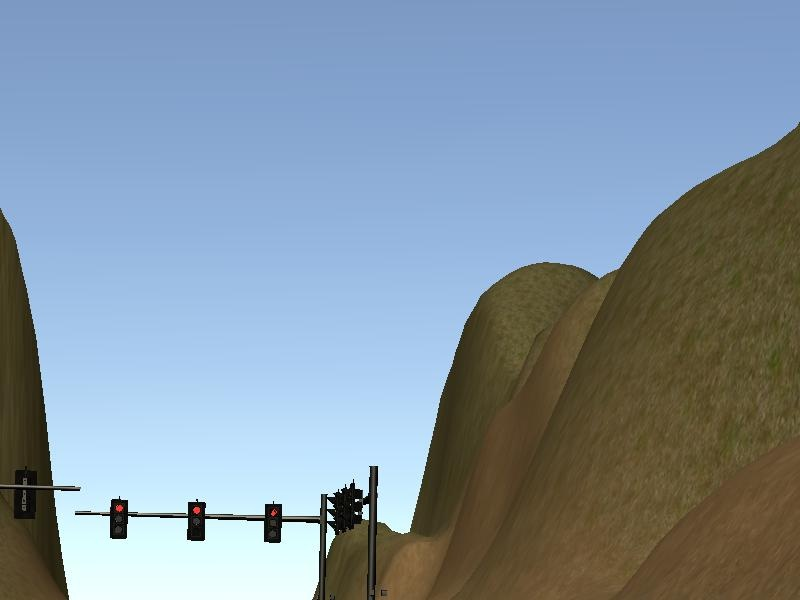traffic_light_red: (89, 493, 319, 545)
